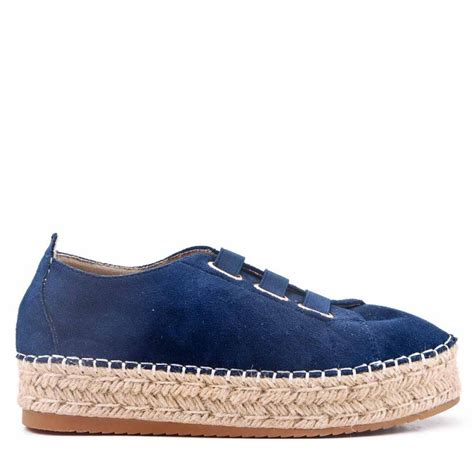gamuza: (14, 233, 455, 373)
